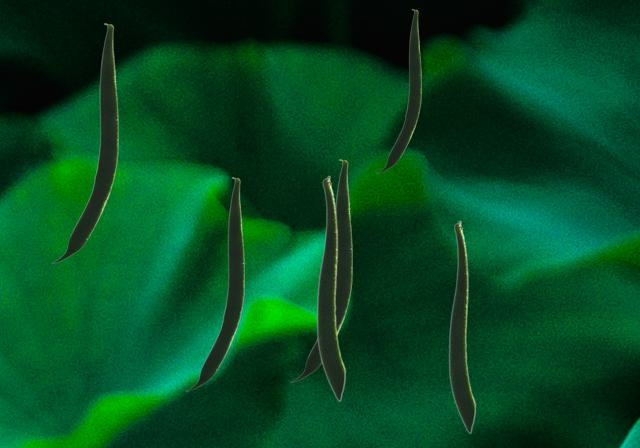french_bean: (51, 23, 117, 262), (290, 159, 351, 381), (185, 177, 243, 390), (376, 9, 420, 172), (316, 175, 345, 401), (448, 220, 475, 433)
